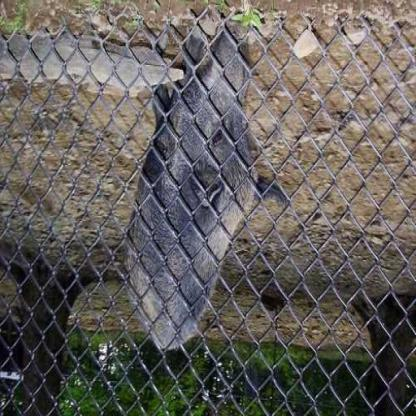boar: (92, 54, 292, 382)
